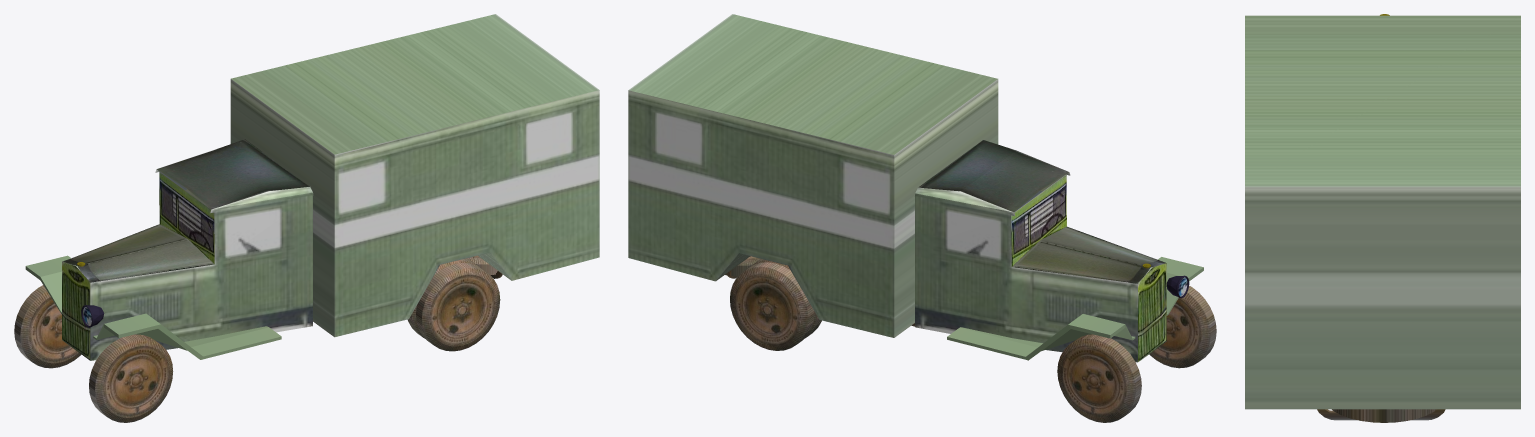
Rendered from ZIS-5В.dae.
3 renders of one model, left to right at view 1: azimuth 30°, elevation 25°; view 2: azimuth 150°, elevation 25°; view 3: azimuth 270°, elevation 25°, orthographic. The views are drawn at different scales.
Parts seen in each view (by area): view 1: Cube_002, Cube, Cylinder, Cylinder_003, Cube_001; view 2: Cube_002, Cube, Cylinder, Cylinder_003, Cube_001; view 3: Cube_002, Cylinder_006, Cube_004.
Part boxes in pixels (x1,y1,x2,y2): Cube_002: [230, 14, 599, 337]; Cube: [62, 139, 313, 360]; Cylinder: [14, 285, 173, 422]; Cylinder_003: [407, 258, 500, 351]; Cube_001: [25, 255, 281, 359]; Cube_002: [628, 14, 998, 337]; Cube: [915, 140, 1166, 362]; Cylinder: [1057, 285, 1216, 422]; Cylinder_003: [730, 259, 821, 350]; Cube_001: [947, 257, 1203, 360]; Cube_002: [1245, 15, 1520, 409]; Cylinder_006: [1332, 409, 1435, 422]; Cube_004: [1317, 409, 1445, 420].
Size of the model in its own units: 6.64 by 2.94 by 2.42.
Materials: 13 (13 with a texture image).
